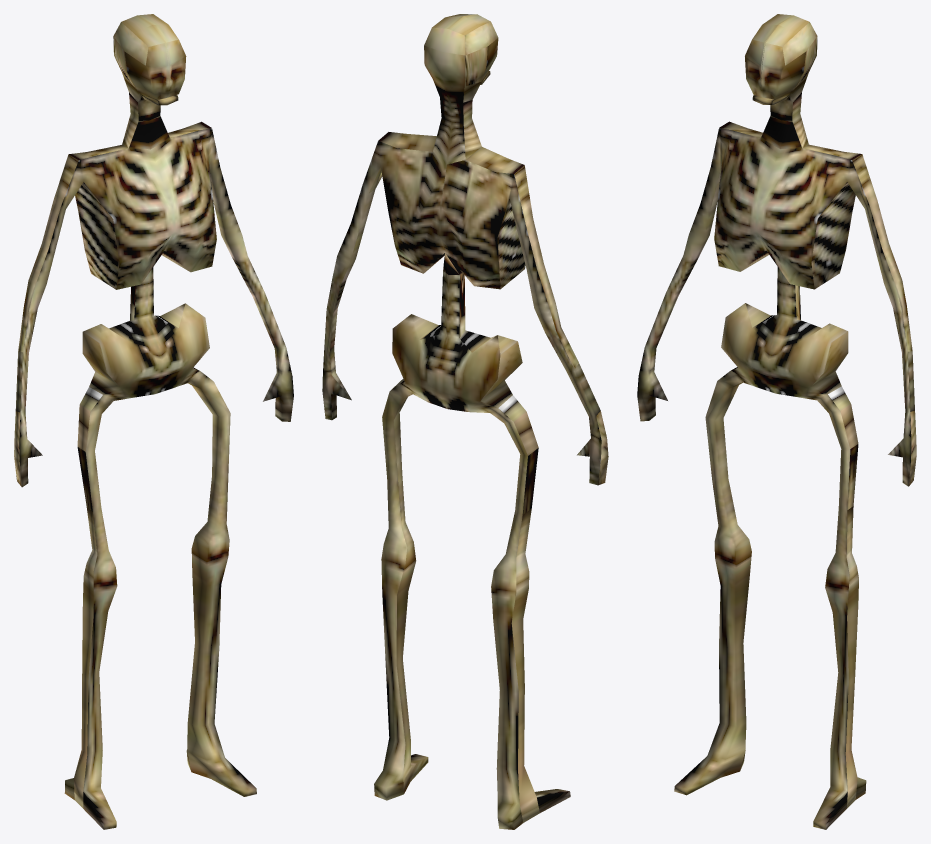
The model's file is skeleton_psx_lowpoly.glb.
3 views of the same model, side by side, from view 1: azimuth 30°, elevation 25°; view 2: azimuth 150°, elevation 25°; view 3: azimuth 330°, elevation 25° (orthographic). The views are drawn at different scales.
Visible parts, largest first — view 1: Plane; view 2: Plane; view 3: Plane.
Boxes of the visible parts, box(x1,y1,x2,y2) form: Plane: box(14, 14, 293, 829); Plane: box(322, 14, 608, 829); Plane: box(637, 14, 916, 829).
Bounding box in the file's own units: 0.6946 × 1.86 × 0.2395.
1 material, 1 textured.
